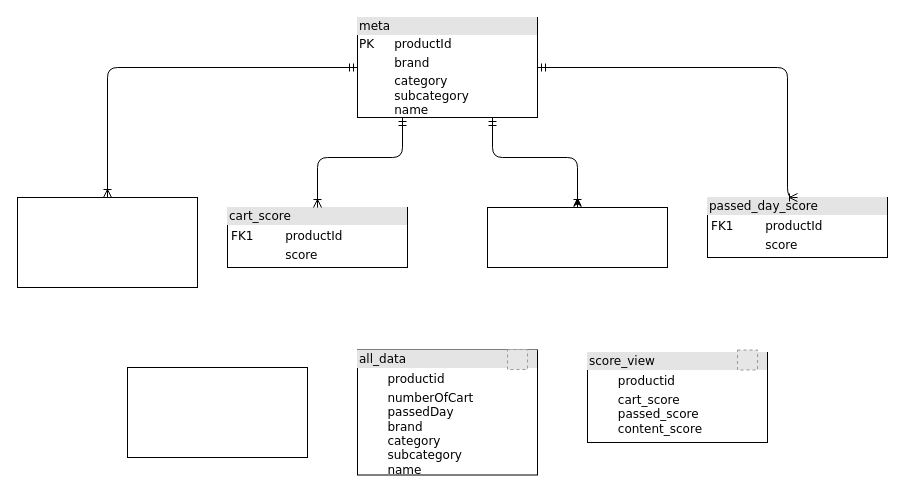
Image size: 905x493. Some labels were removed from this diagram. Grey dashed boxes stand in for pictures. Here are the shapes that lost their labels. From the top down, the centre of each, then its label:
At [107,242]: "event FK1 productId numberOfCart price passedDay".
At [577,237]: "content_score FK1 productId score".
At [217,412]: "log PK id level message logDatatime".
